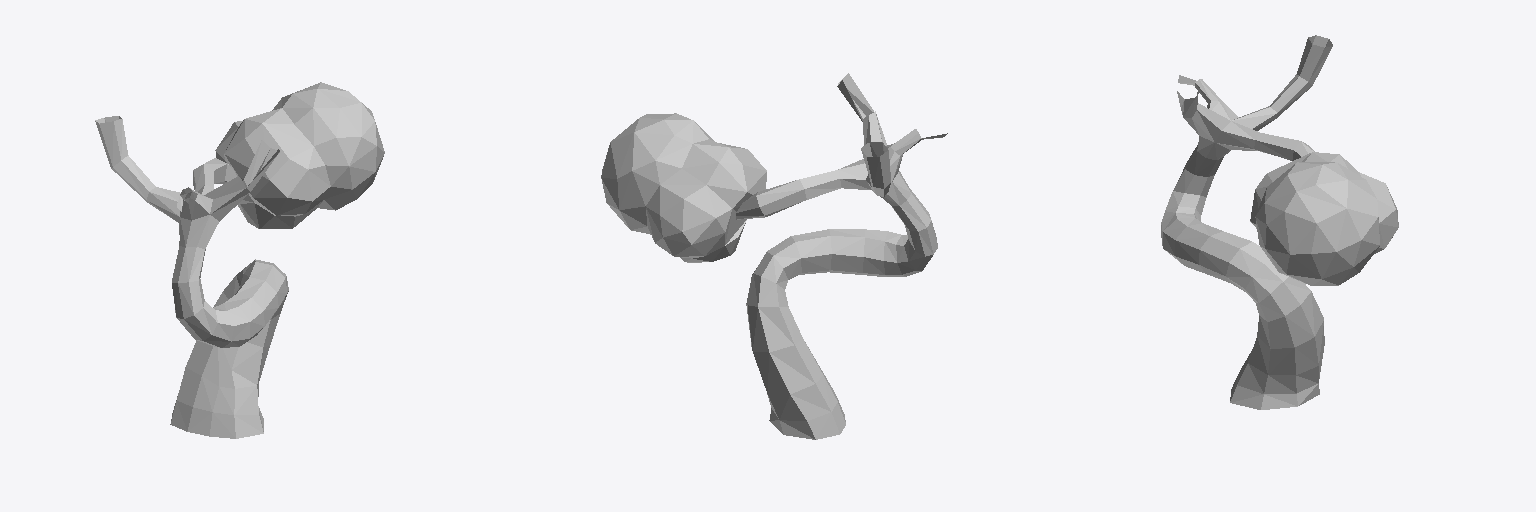
Rendered from tree-2.obj.
The picture shows the model from 3 angles: view 1: azimuth 30°, elevation 25°; view 2: azimuth 150°, elevation 25°; view 3: azimuth 270°, elevation 25°; orthographic projection.
Visible parts, largest first — view 1: LowPoly_Tree_06_lowpoly_tree_02_Mesh.005; view 2: LowPoly_Tree_06_lowpoly_tree_02_Mesh.005; view 3: LowPoly_Tree_06_lowpoly_tree_02_Mesh.005.
Boxes of the visible parts, <box> form: LowPoly_Tree_06_lowpoly_tree_02_Mesh.005: <box>95,82,384,438</box>; LowPoly_Tree_06_lowpoly_tree_02_Mesh.005: <box>601,73,947,439</box>; LowPoly_Tree_06_lowpoly_tree_02_Mesh.005: <box>1161,35,1398,409</box>.
Size of the model in its own units: 2.13 by 2.29 by 1.58.